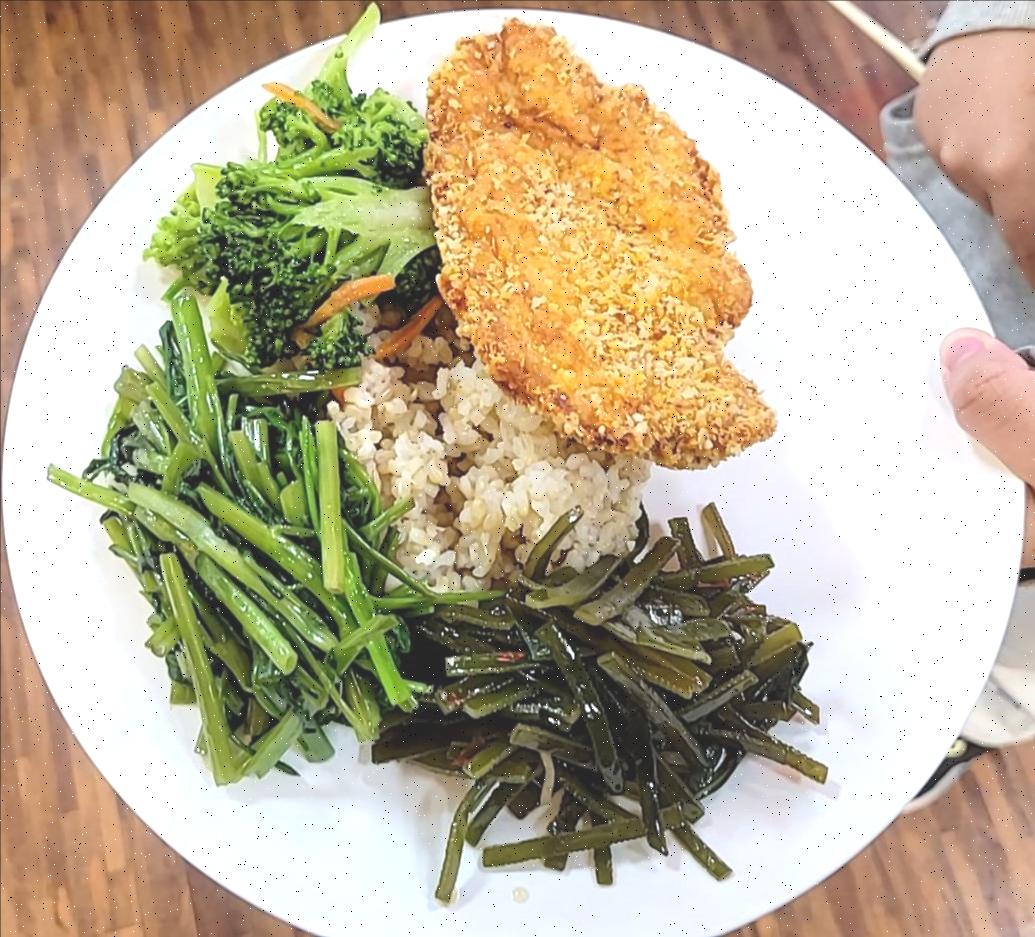brown rice: (344, 338, 651, 595)
chicken steak: (408, 19, 781, 474)
plate: (0, 22, 1035, 937)
side dish: (391, 534, 810, 886), (74, 324, 390, 780), (158, 56, 424, 352)
